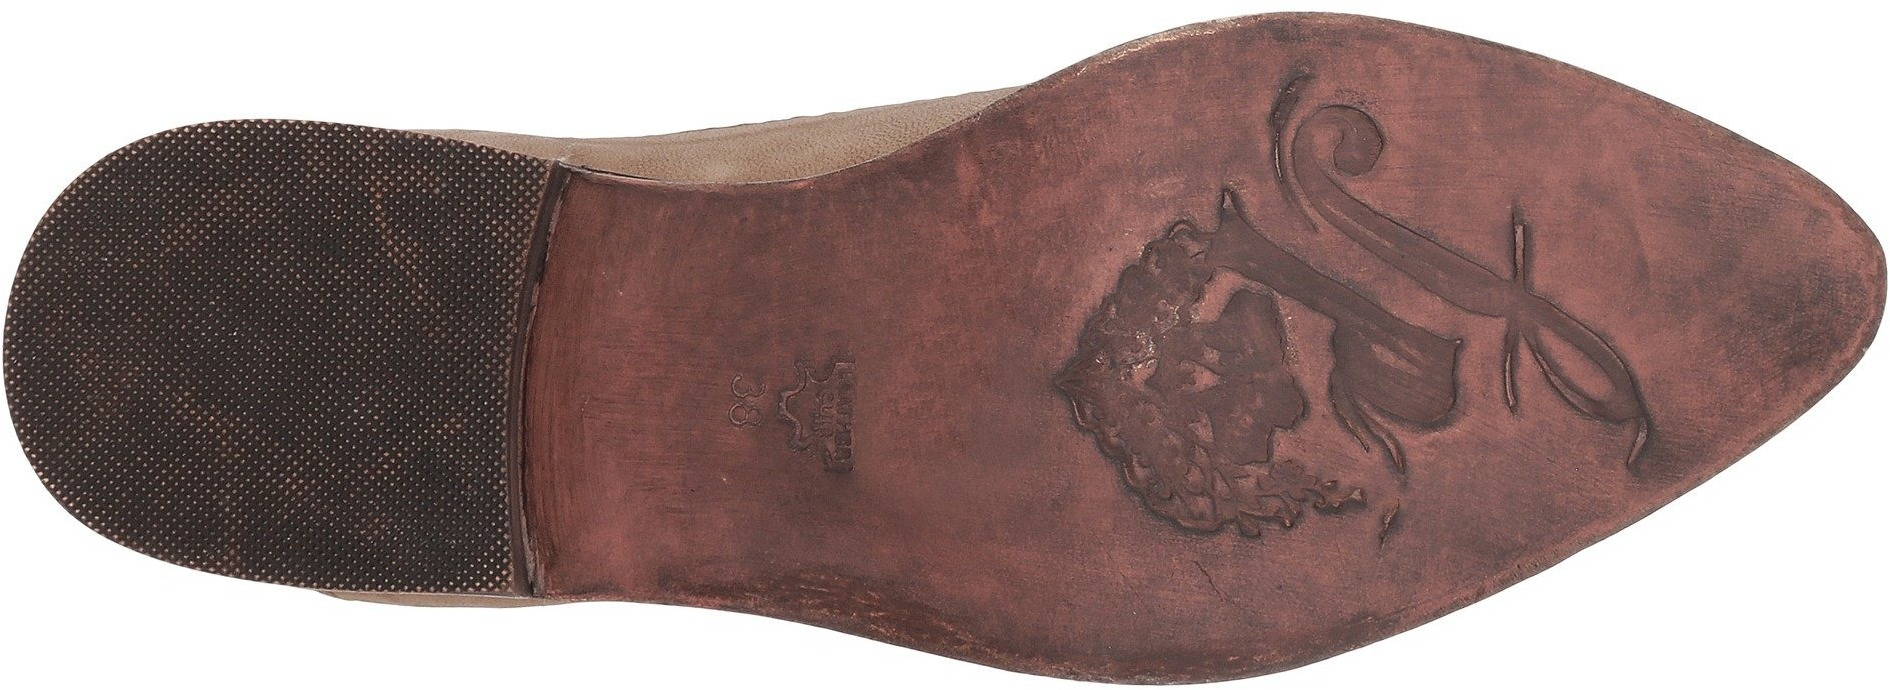other: (127, 142, 494, 537)
text: (739, 353, 865, 489)
